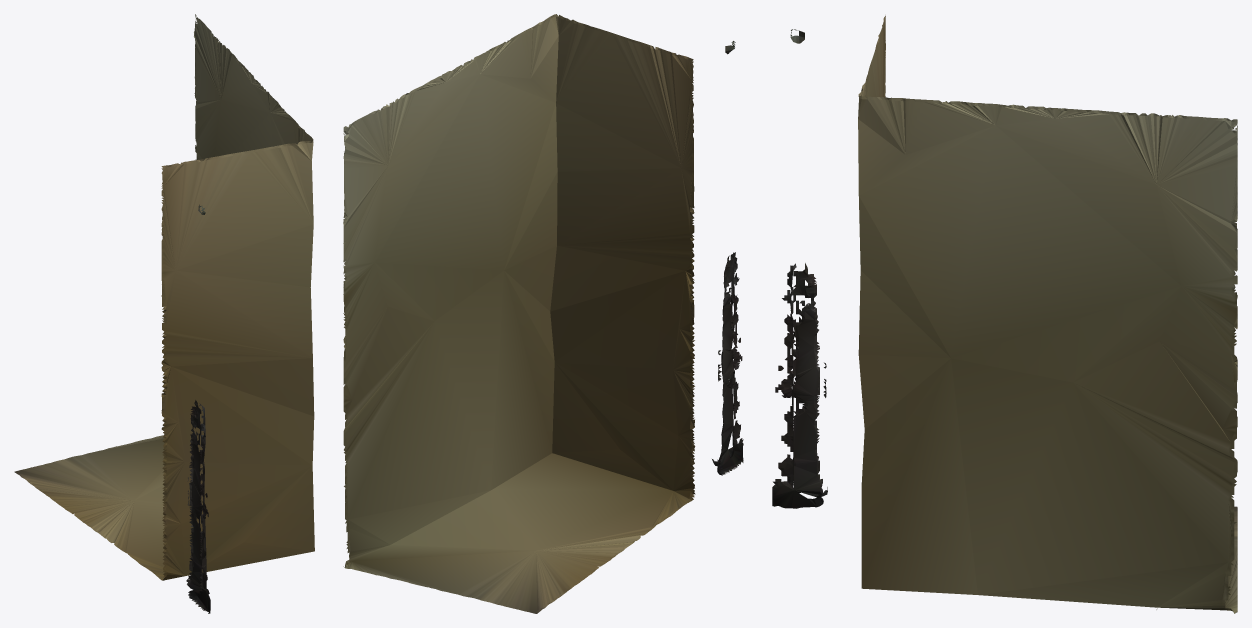
Rendered from coarse.glb.
3 renders of one model, left to right at view 1: azimuth 30°, elevation 25°; view 2: azimuth 150°, elevation 25°; view 3: azimuth 270°, elevation 25°, orthographic. The views are drawn at different scales.
Size of the model in its own units: 0.7442 by 1.63 by 1.38.
